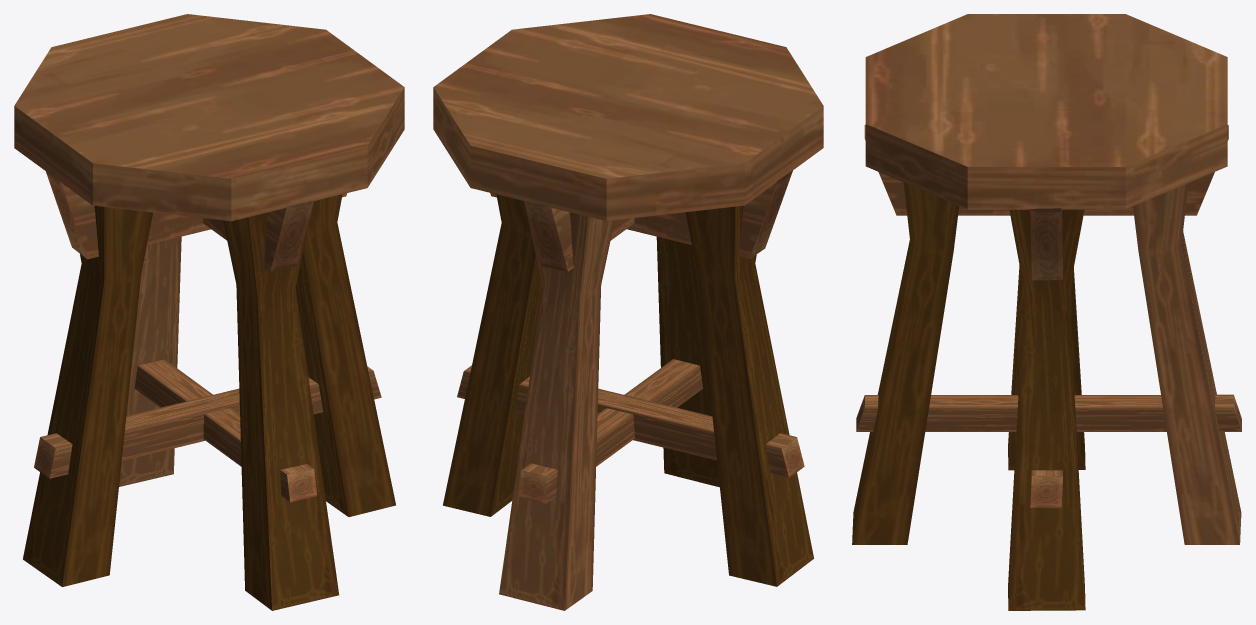
The model's file is Stool.glb.
3 views of the same model, side by side, from view 1: azimuth 30°, elevation 25°; view 2: azimuth 150°, elevation 25°; view 3: azimuth 270°, elevation 25° (orthographic).
Visible parts, largest first — view 1: Stool; view 2: Stool; view 3: Stool.
Part boxes in pixels (<box>): Stool: <box>14,14,404,610</box>; Stool: <box>433,14,823,610</box>; Stool: <box>852,14,1241,610</box>.
Size of the model in its own units: 0.4746 by 0.5887 by 0.4746.
Materials: 1 (1 with a texture image).
